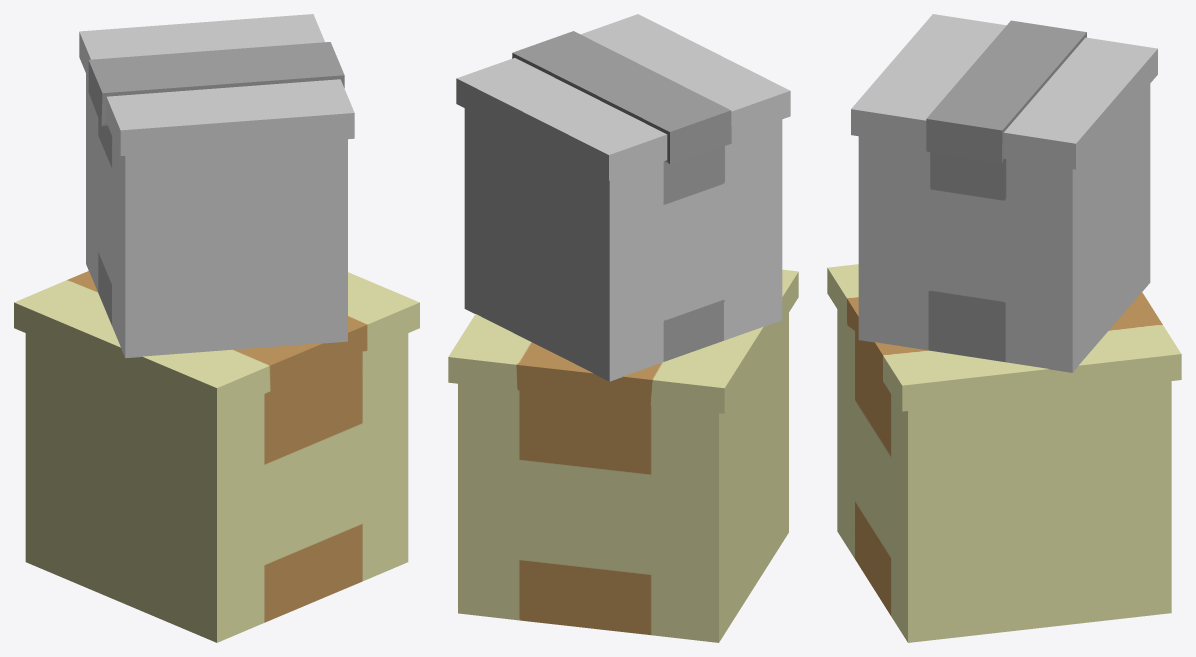
The model's file is Caixas (2).FBX.
3 views of the same model, side by side, from view 1: azimuth 30°, elevation 25°; view 2: azimuth 150°, elevation 25°; view 3: azimuth 270°, elevation 25° (orthographic).
Visible parts, largest first — view 1: Box019, Box018; view 2: Box018, Box019; view 3: Box019, Box018.
Part boxes in pixels (x1,y1,x2,y2): Box019: [14, 271, 419, 642]; Box018: [79, 14, 354, 358]; Box018: [456, 14, 790, 381]; Box019: [448, 269, 798, 642]; Box019: [827, 264, 1181, 642]; Box018: [851, 14, 1157, 372].
Bounding box in the file's own units: 155 × 241 × 155.
